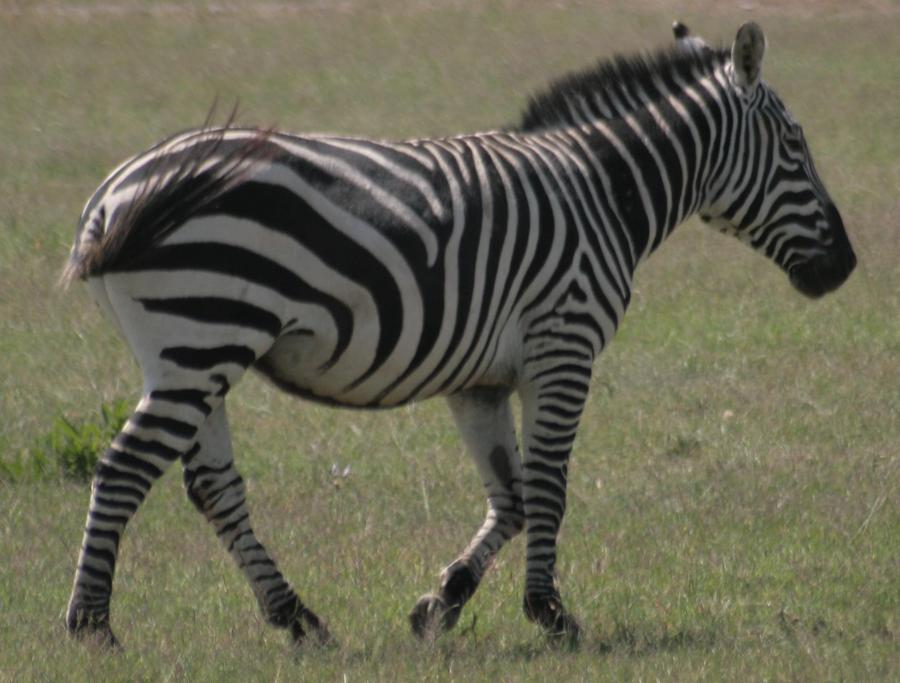zebra_plains: (124, 98, 653, 422)
